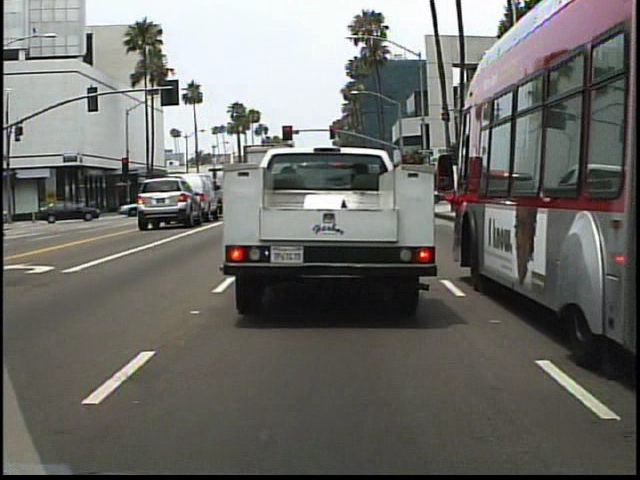person: (48, 193, 67, 224)
